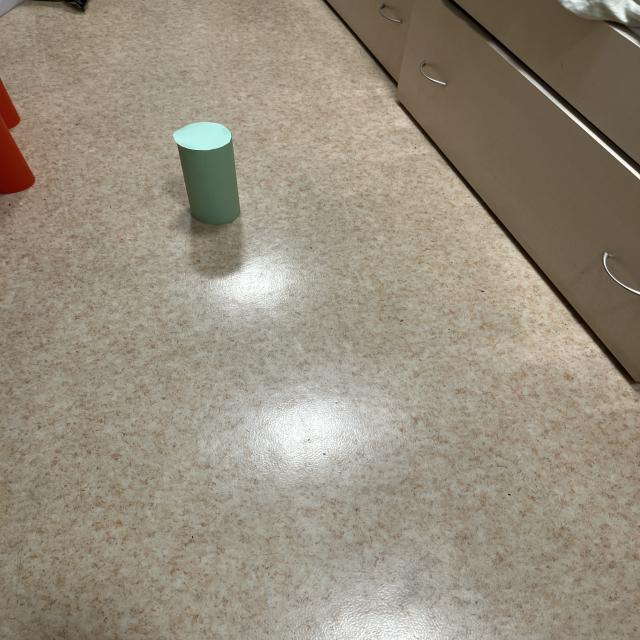meta: (173, 122, 240, 224)
